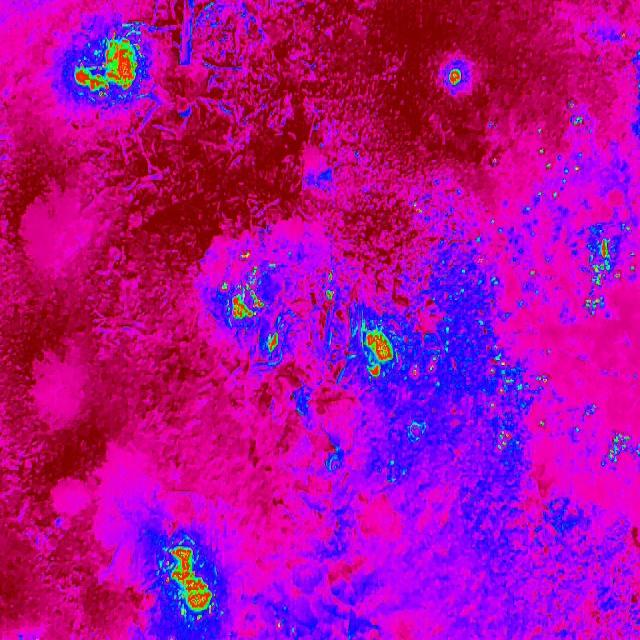fire: (408, 231, 558, 449), (516, 104, 602, 206), (72, 34, 150, 101), (214, 248, 268, 326), (162, 542, 212, 620), (583, 234, 617, 318), (356, 325, 402, 381), (442, 60, 468, 91), (320, 267, 340, 305), (262, 332, 284, 359)
